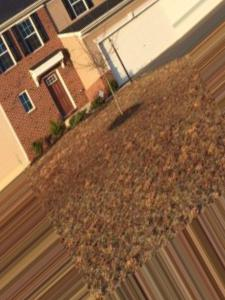patch: (139, 120, 191, 170), (58, 193, 118, 225), (123, 182, 173, 215), (40, 160, 86, 181), (87, 236, 131, 257), (100, 144, 128, 173), (201, 140, 221, 171), (61, 135, 96, 152), (160, 84, 183, 106), (185, 178, 206, 196)
